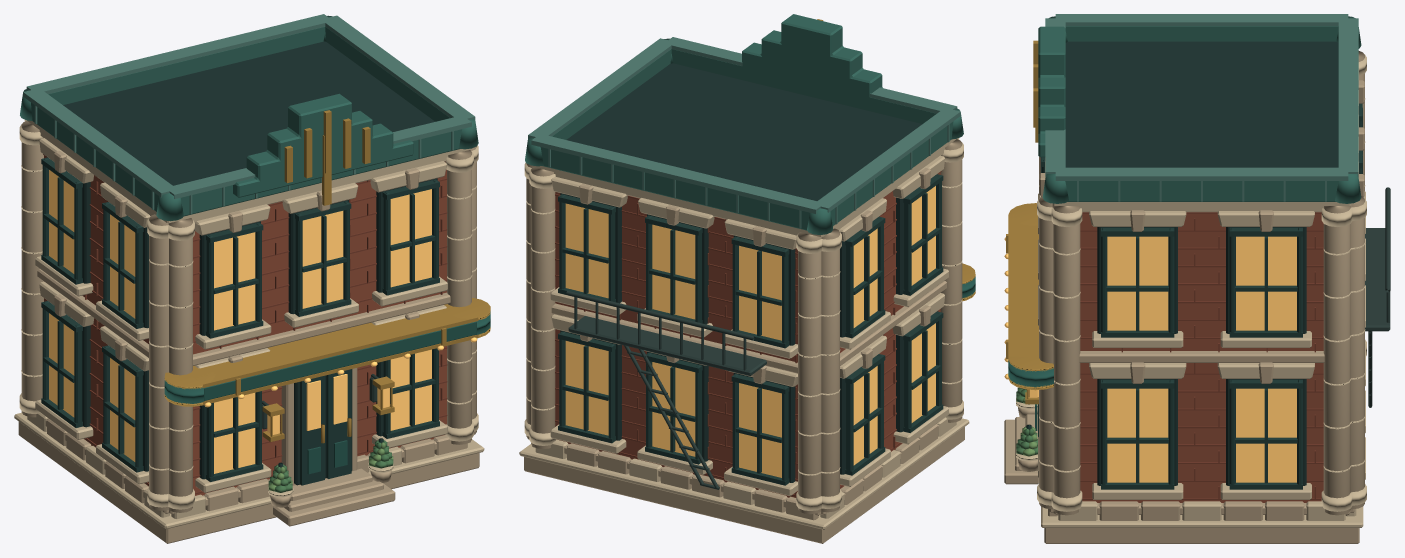
3 renders of one model, left to right at view 1: azimuth 30°, elevation 25°; view 2: azimuth 150°, elevation 25°; view 3: azimuth 270°, elevation 25°, orthographic. The views are drawn at different scales.
Parts seen in each view (by area): view 1: expansion_hotel_2_geometry; view 2: expansion_hotel_2_geometry; view 3: expansion_hotel_2_geometry.
Boxes of the visible parts, x1,y1,x2,y2 form: expansion_hotel_2_geometry: (14,14,490,543); expansion_hotel_2_geometry: (519,14,975,543); expansion_hotel_2_geometry: (1004,14,1390,543).
Bounding box in the file's own units: 0.99 × 1.16 × 0.9552.
